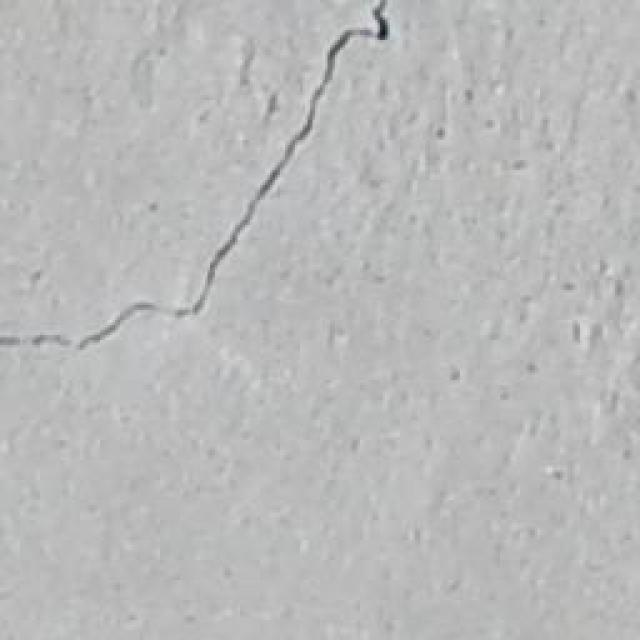concrete-crack: (7, 0, 401, 360)
